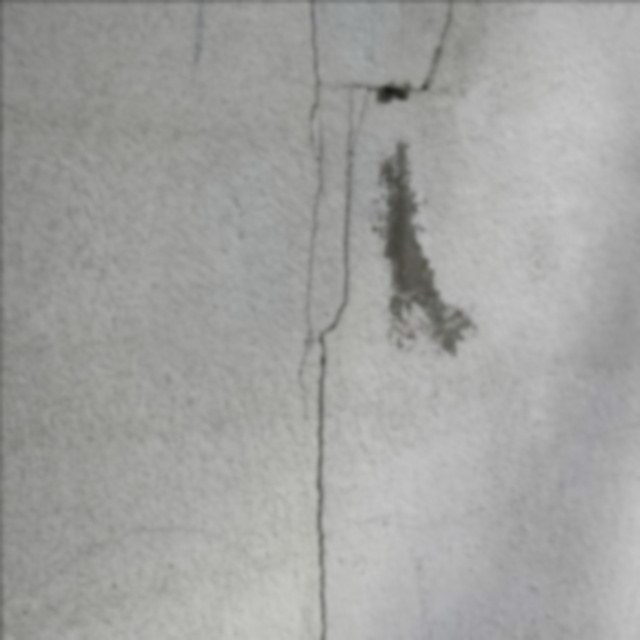SurfaceCrack: (263, 5, 389, 640)
